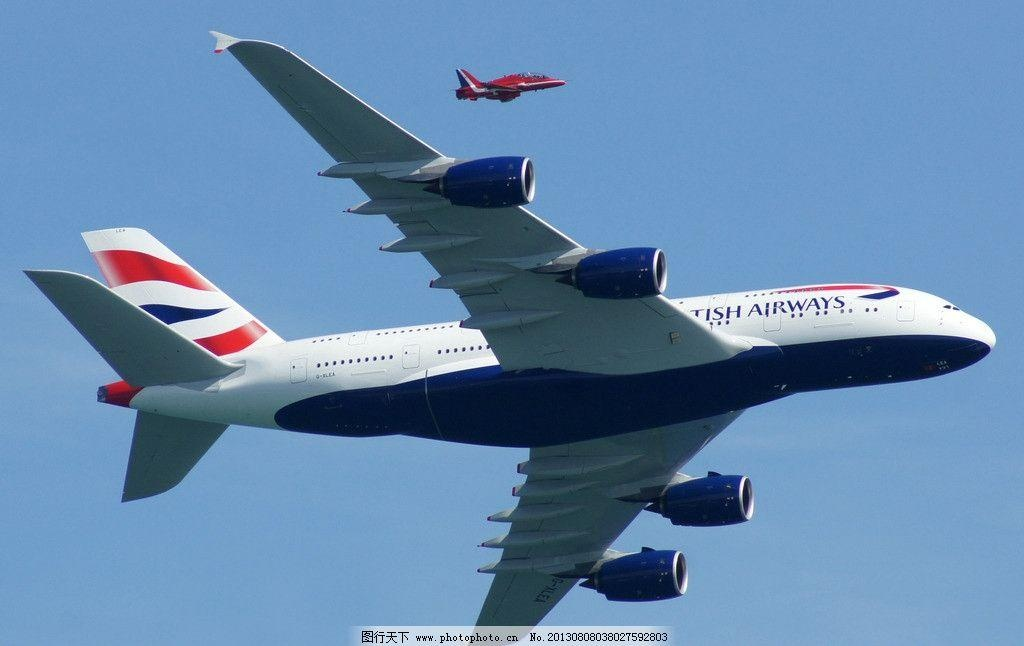airplane: (28, 29, 997, 610), (452, 63, 569, 105)
